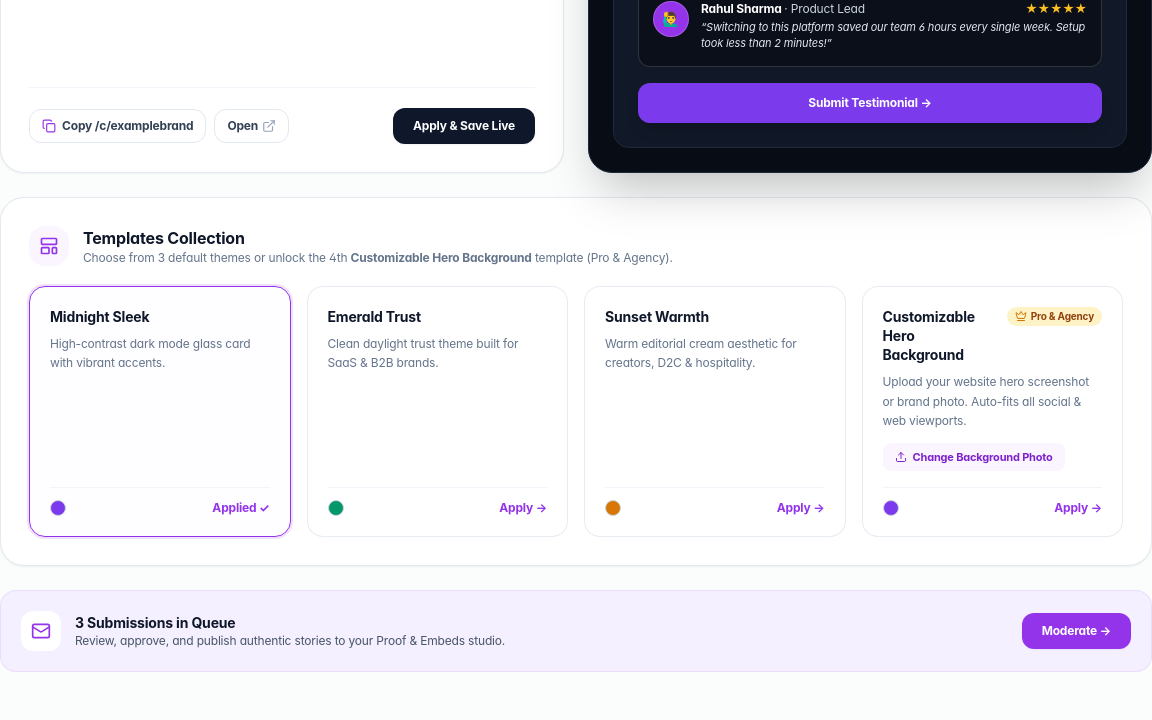
Test: FormsBuilderStudio Production Component Suite › 5. Renders 3 Default + 1 Customizable Hero Background Template with single clean Applied ✓ status
(page scrolled)
Expected: the element with test id "template-midnight" shows "Applied ✓", [212,500,270,515]
# Click Emerald Trust template
Click the element with test id "template-emerald": (437, 411) [306,286,568,537]
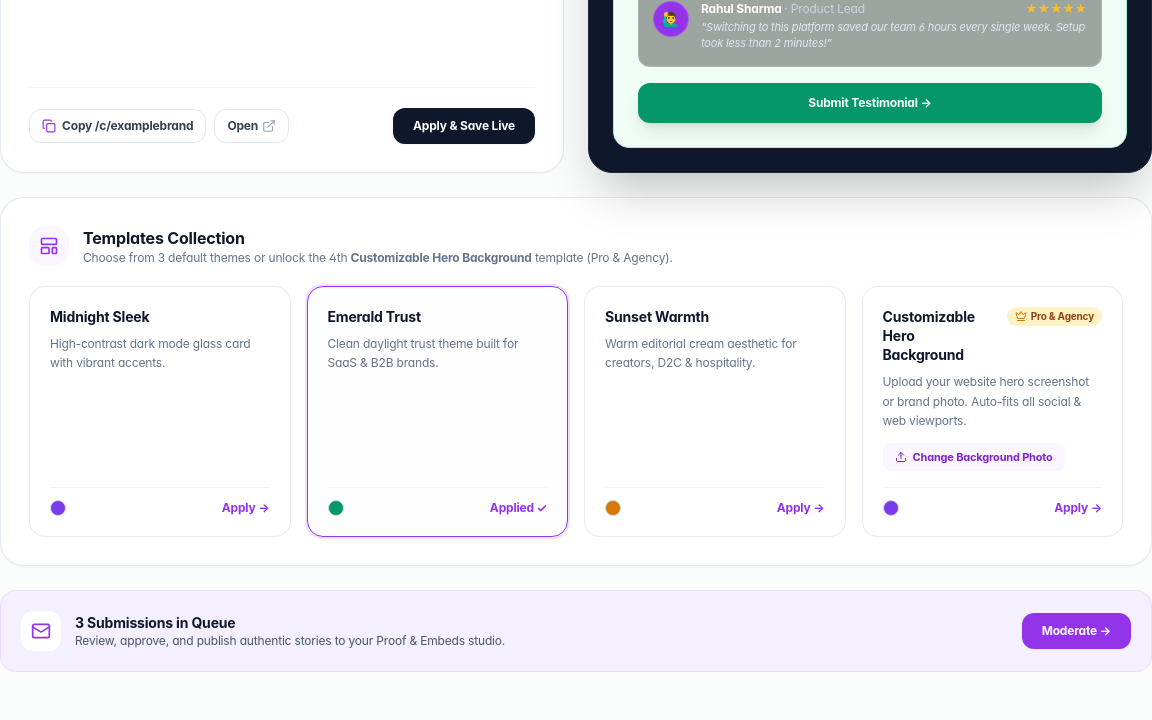
Expected: the element with test id "template-emerald" shows "Applied ✓", [490,500,547,515]
